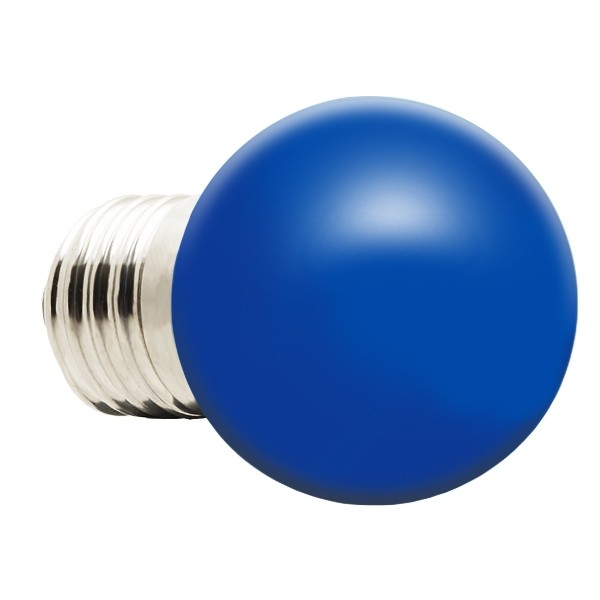blue ball: (170, 95, 579, 506)
